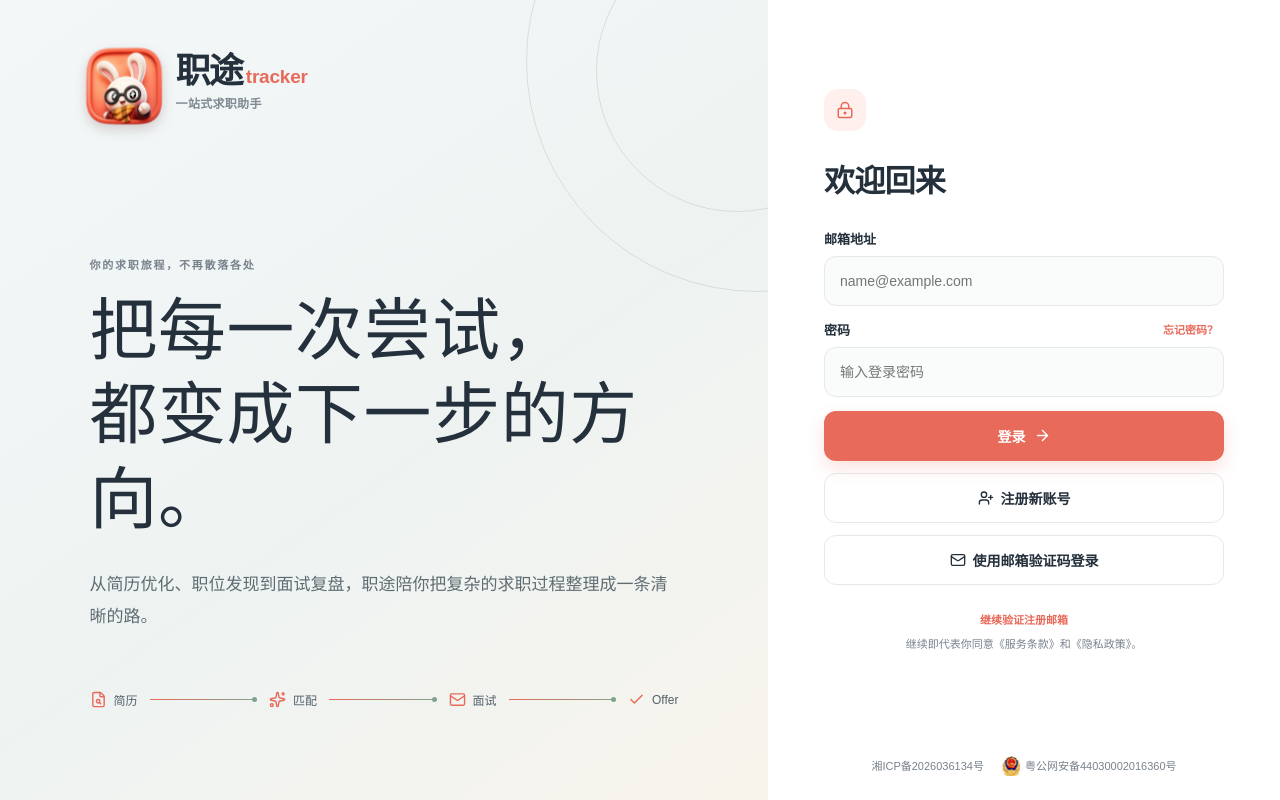
Scenario: LoginPage session redirect › keeps the email and shows invalid-code errors without navigating
The width and height of the screenshot is (1280, 800).
Click the button "继续验证注册邮箱": (1024, 619) [824, 603, 1224, 635]
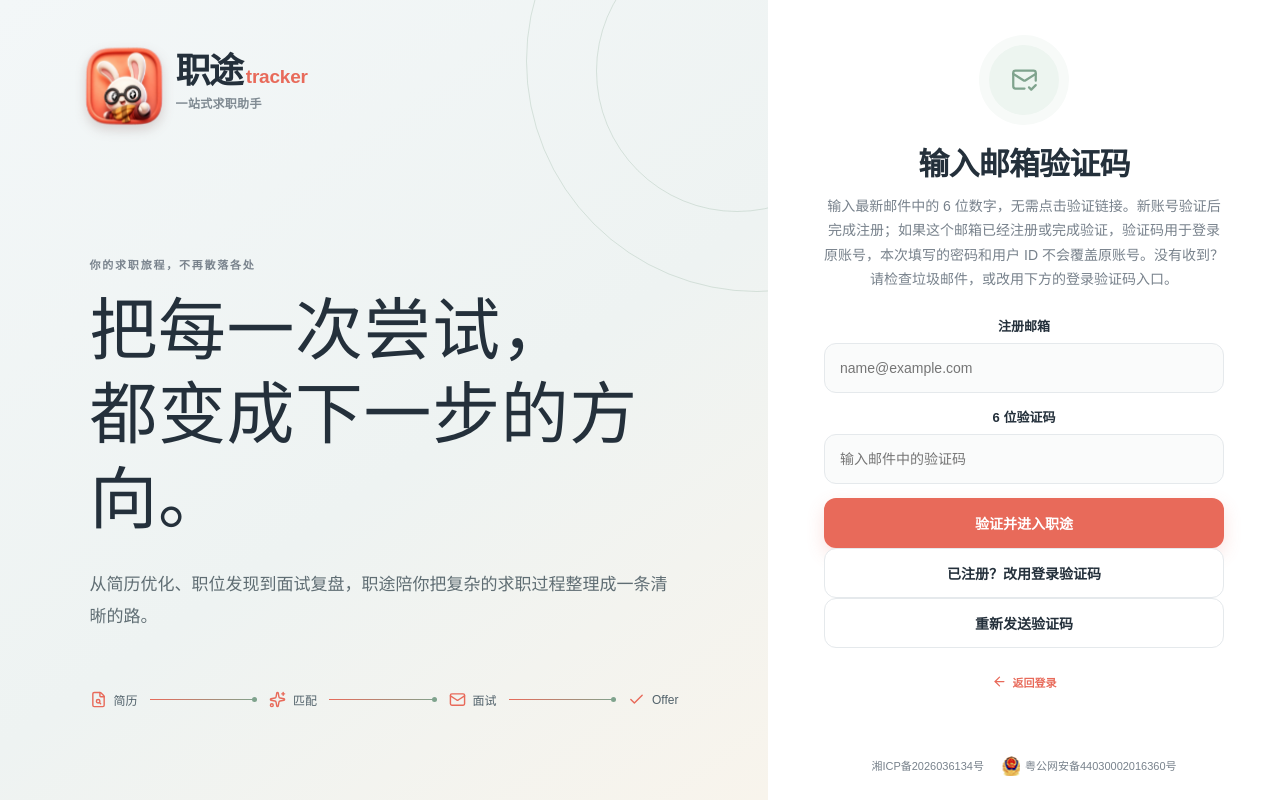
In the field labelled "注册邮箱": (1024, 368) [824, 342, 1224, 392], type "Candidate@Example.com"
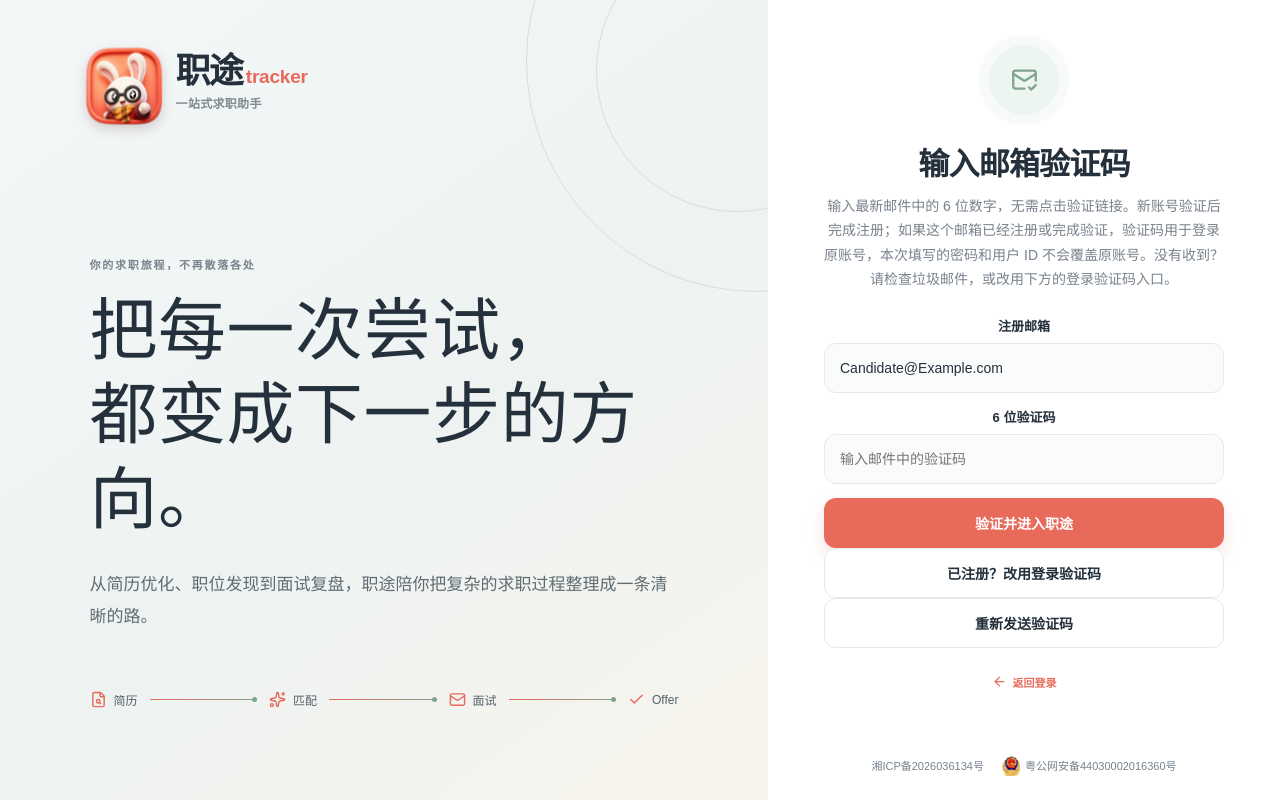
In the field labelled "6 位验证码": (1024, 458) [824, 434, 1224, 484], type "123456"
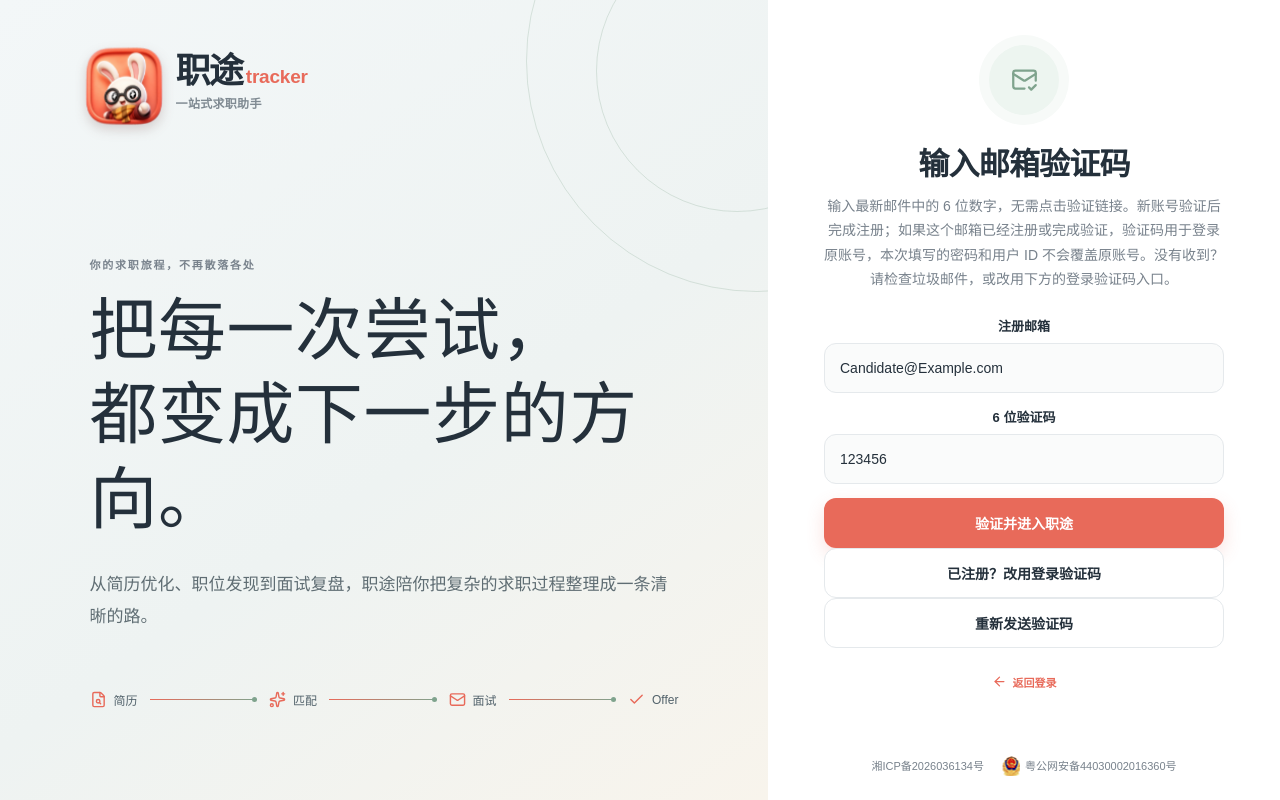
Click the button "验证并进入职途": (1024, 522) [824, 498, 1224, 548]
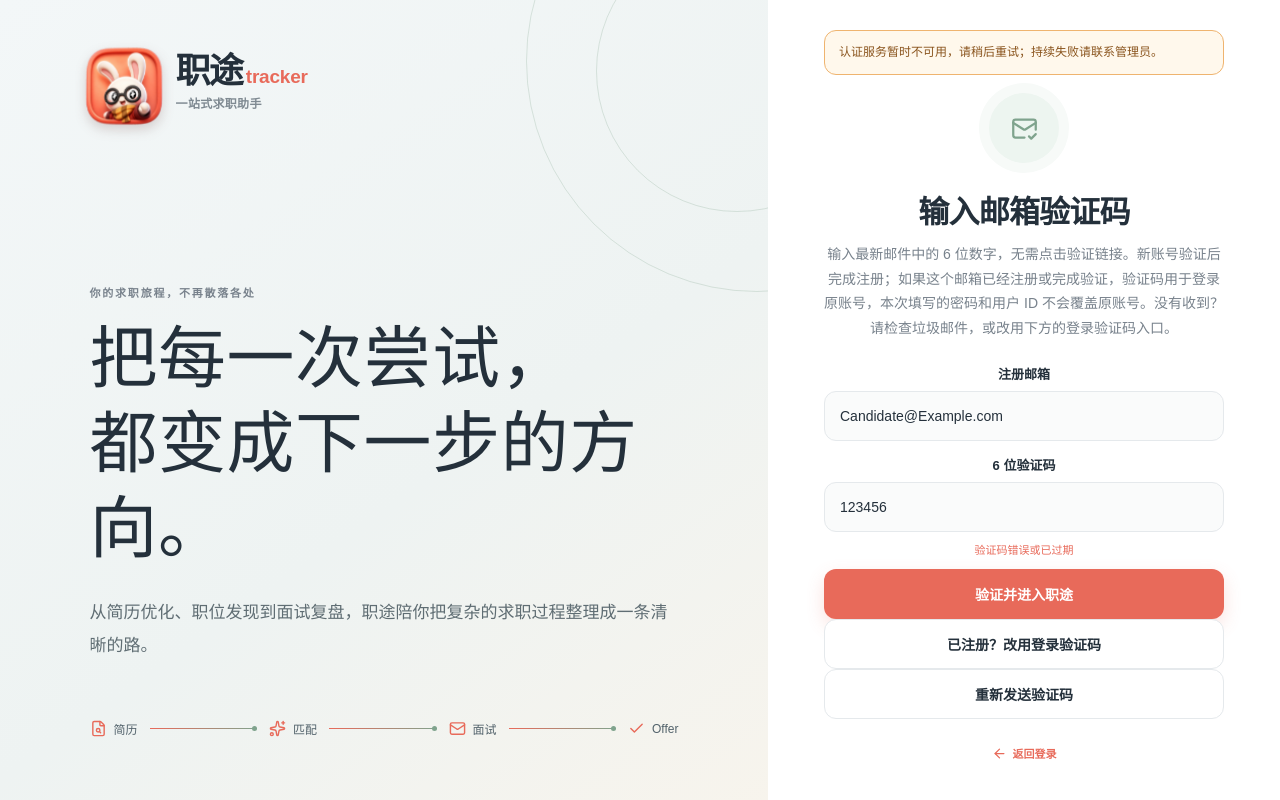
Now the text "验证码错误或已过期" is shown, box [974, 544, 1074, 556]
